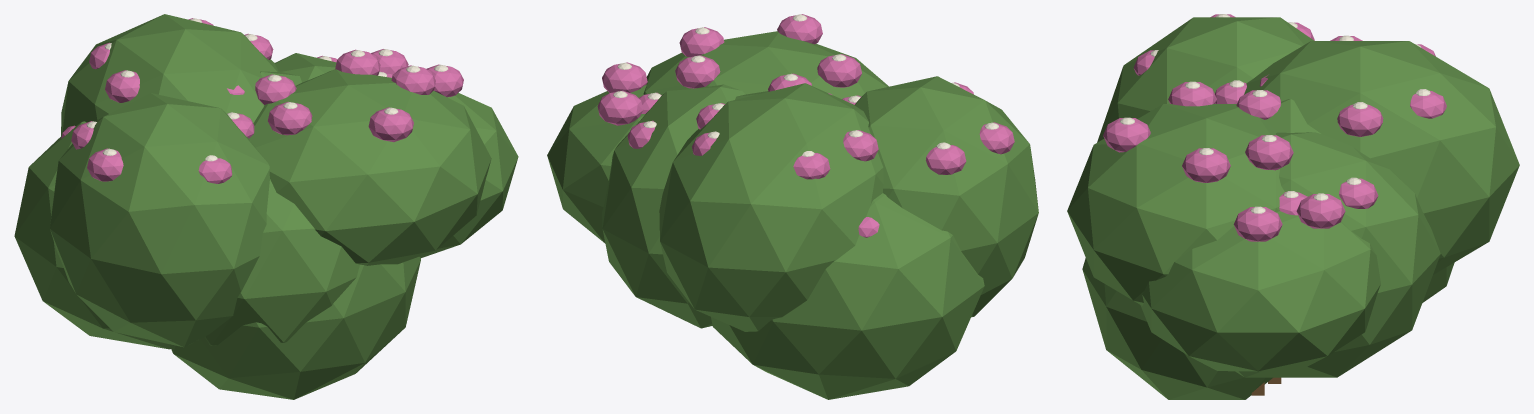
The model's file is flowers-1.glb.
3 renders of one model, left to right at view 1: azimuth 30°, elevation 25°; view 2: azimuth 150°, elevation 25°; view 3: azimuth 270°, elevation 25°, orthographic. The views are drawn at different scales.
Visible parts, largest first — view 1: flowers-1; view 2: flowers-1; view 3: flowers-1.
Boxes of the visible parts, left/top/right/bottom form: flowers-1: left=14, top=14, right=518, bottom=399; flowers-1: left=547, top=14, right=1038, bottom=399; flowers-1: left=1067, top=14, right=1519, bottom=399.
Bounding box in the file's own units: 2.83 × 1.94 × 2.4.
